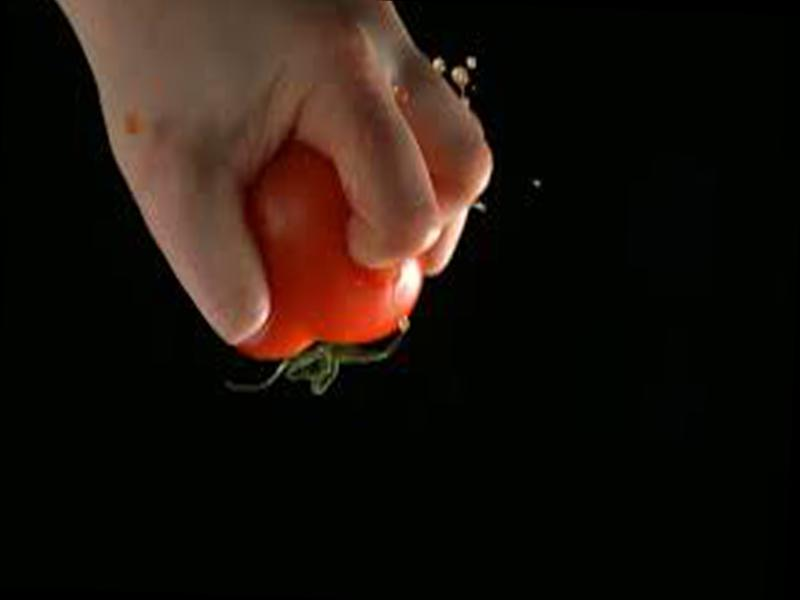Tomato: (234, 141, 426, 365)
